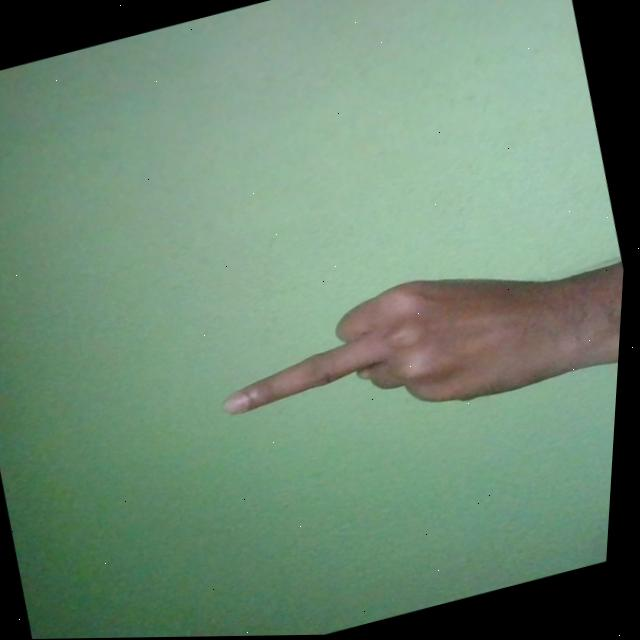Middle Finger: (205, 232, 629, 462)
